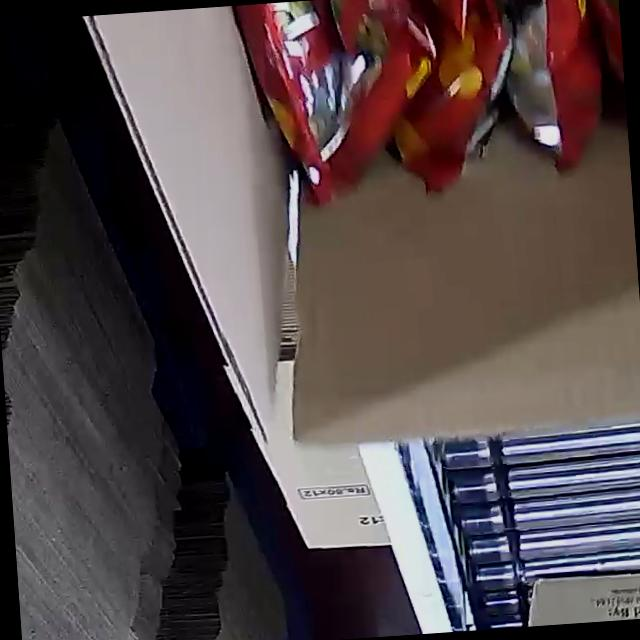masala: (180, 0, 631, 217)
